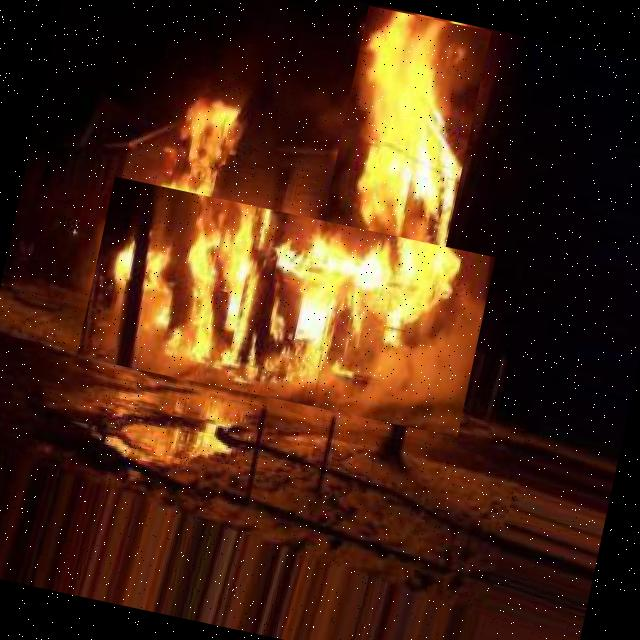fire: (76, 176, 495, 437), (323, 5, 491, 246), (161, 74, 264, 170)
